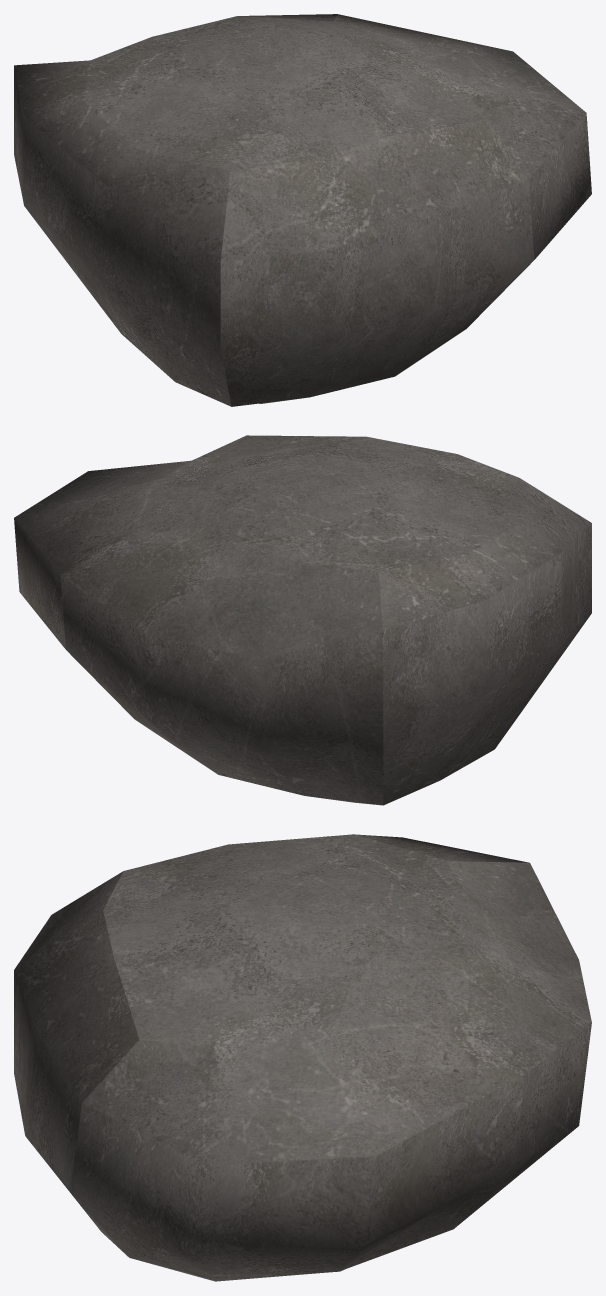
File: PebbleTX.fbx
3 views of the same model, one above another, from view 1: azimuth 30°, elevation 25°; view 2: azimuth 150°, elevation 25°; view 3: azimuth 270°, elevation 25° (orthographic). The views are drawn at different scales.
Parts seen in each view (by area): view 1: pebble; view 2: pebble; view 3: pebble.
Part boxes in pixels (<box>): pebble: <box>14,14,591,406</box>; pebble: <box>14,435,591,805</box>; pebble: <box>14,834,591,1281</box>.
Bounding box in the file's own units: 5.49 × 3.41 × 4.97.
